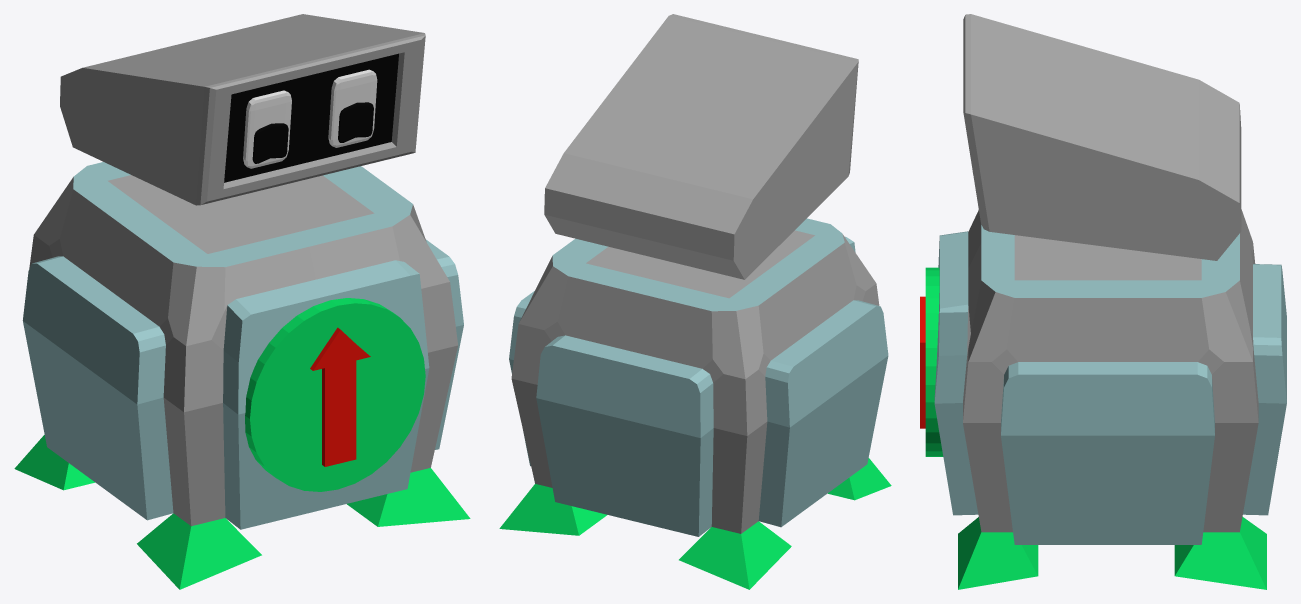
The model's file is bot2.fbx.
3 renders of one model, left to right at view 1: azimuth 30°, elevation 25°; view 2: azimuth 150°, elevation 25°; view 3: azimuth 270°, elevation 25°, orthographic. The views are drawn at different scales.
Visible parts, largest first — view 1: Cube.007; view 2: Cube.007; view 3: Cube.007.
Boxes of the visible parts, left/top/right/bottom form: Cube.007: left=14, top=14, right=470, bottom=589; Cube.007: left=499, top=14, right=891, bottom=589; Cube.007: left=920, top=14, right=1286, bottom=589.
Size of the model in its own units: 339 by 486 by 353.
